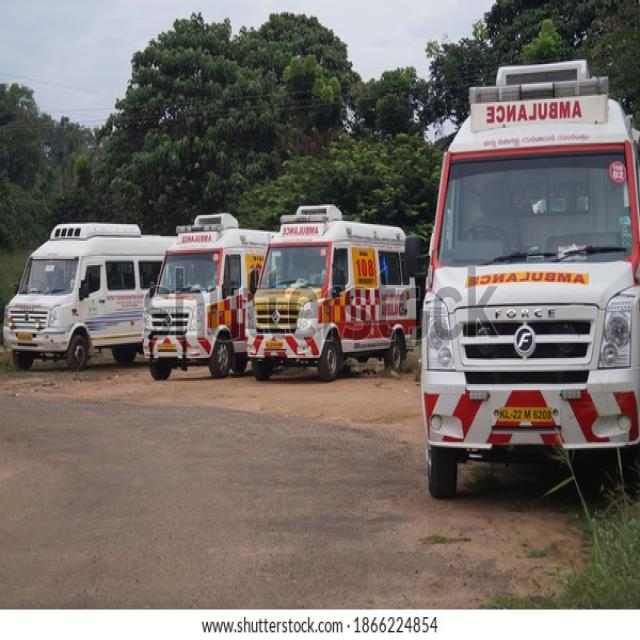ambulance: (420, 58, 640, 501), (245, 202, 419, 374), (2, 219, 167, 372), (145, 209, 273, 380)
